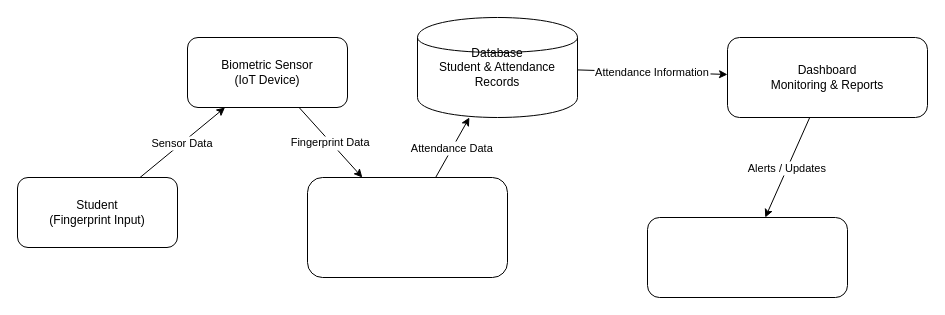
This 945x315 diagram has some shape labels left out. Each missing label, with the centre of its shape:
Notifications Students & Administrators: pixel 747 257
Processing Visual Studio C# Application - Verify Identity - Record Attendance: pixel 407 227
